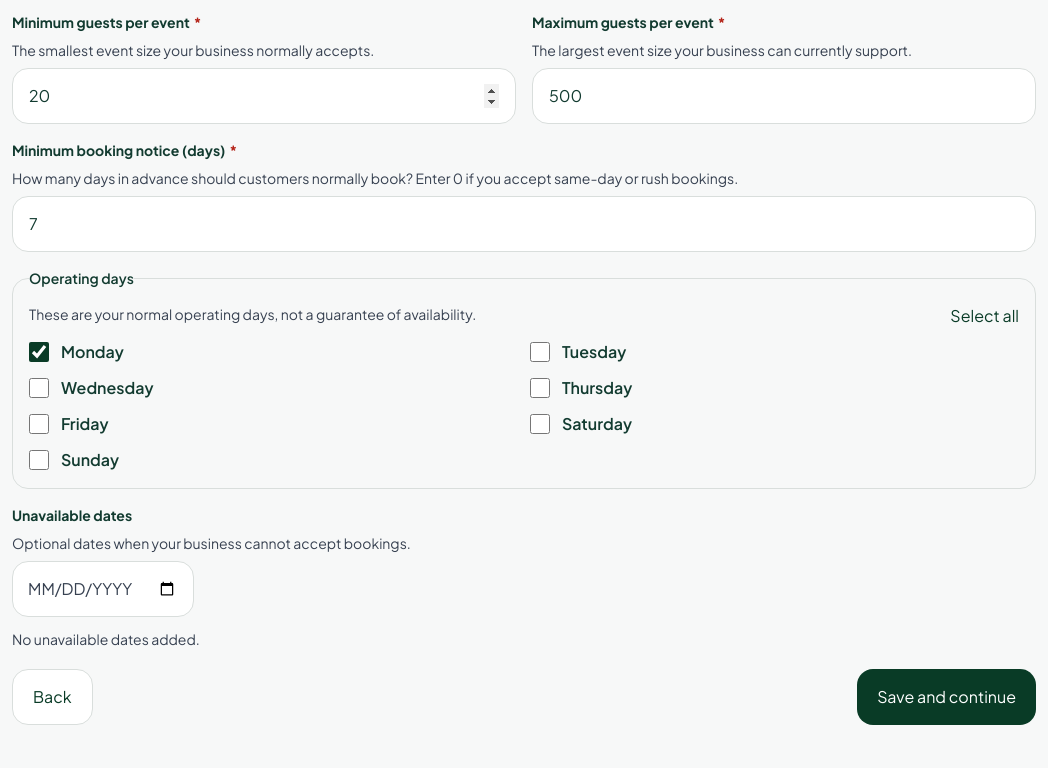
provider operations onboarding › shows field errors instead of sending impossible capacity
The width and height of the screenshot is (1048, 768).
Replace the text in the number field labelled "Minimum guests per event*" with "900": (264, 96) [12,68,516,124]
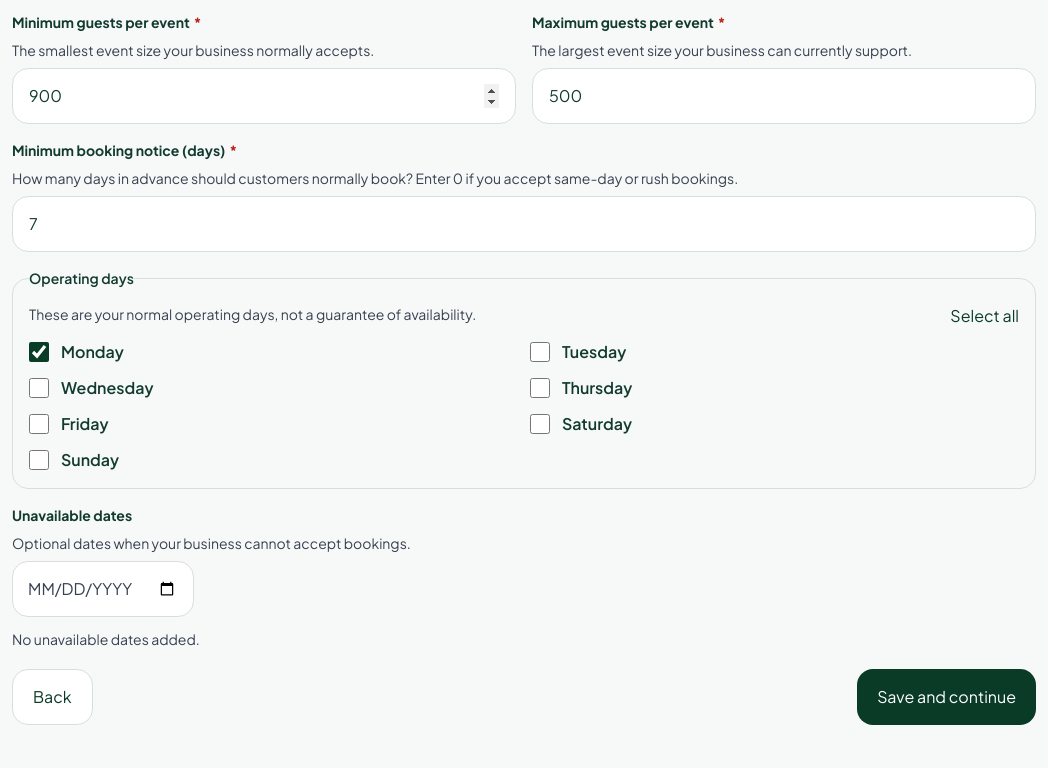
Click the button "Save and continue": (947, 697) [857,669,1036,725]
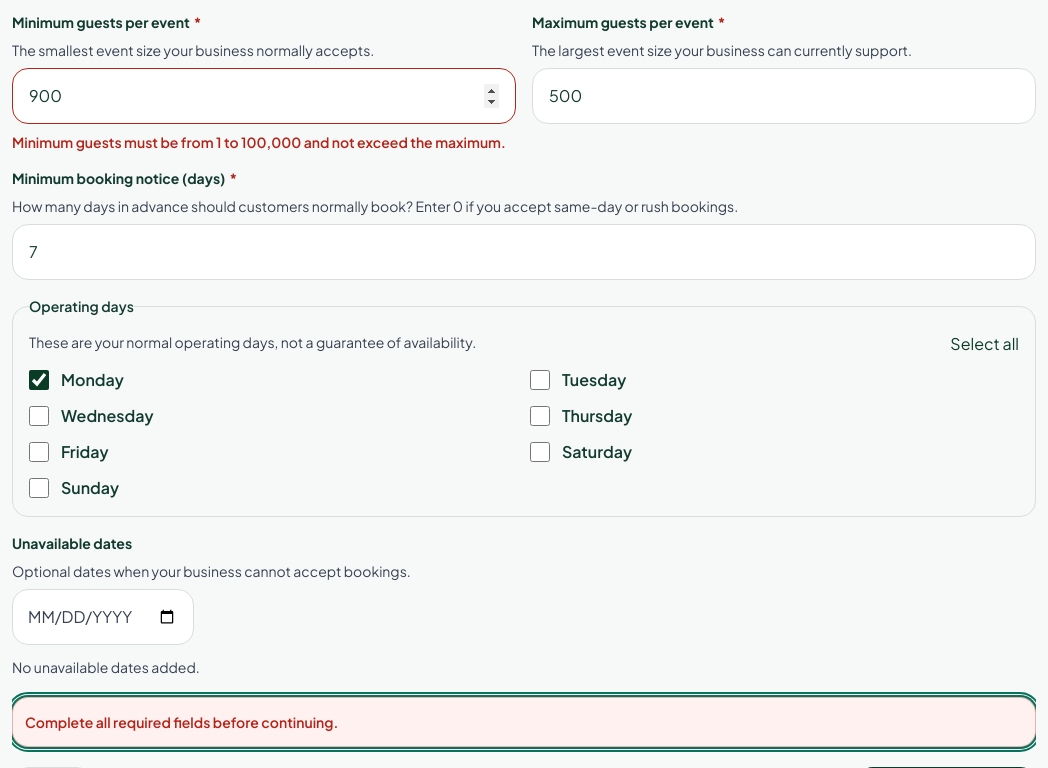
Expected: the text "Minimum guests must be from 1 to 100,000 and not exceed the maximum." is shown, [12,132,516,152]
